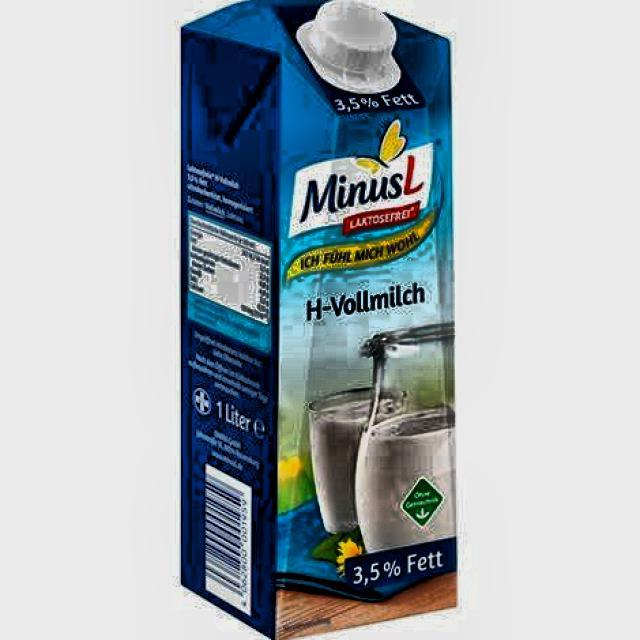cardboard: (178, 0, 458, 640)
